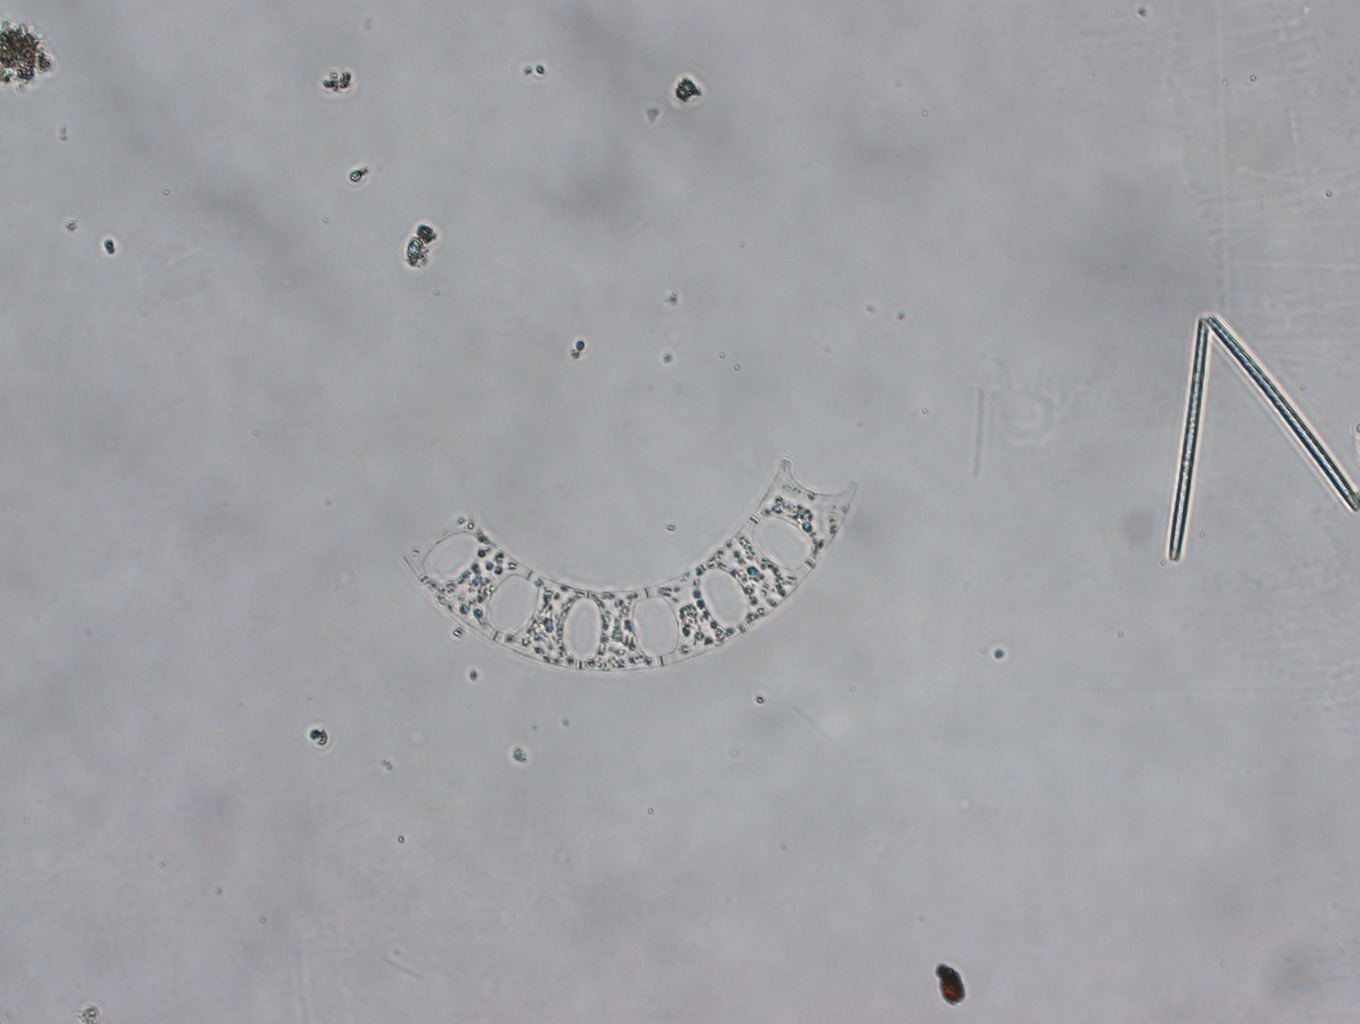eucampia: (402, 459, 858, 672)
thalassionema frauenfeldii: (1166, 316, 1354, 561)
